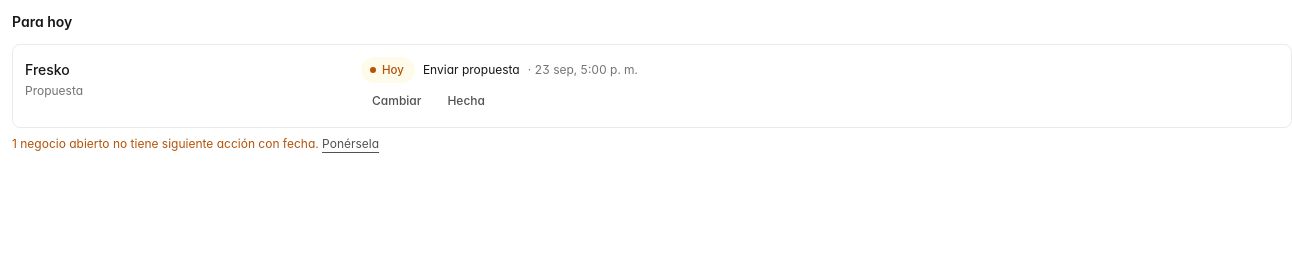
ParaHoyLista: no suelta la fila que se está tocando › «Cambiar» a un día que sigue siendo hoy: la fila se queda y el aviso es el de la línea
This screenshot has width=1292, height=278.
Click the button with aria-label "Cambiar la siguiente acción de «Fresko»".
click(397, 101)  # box [361,87,432,115]
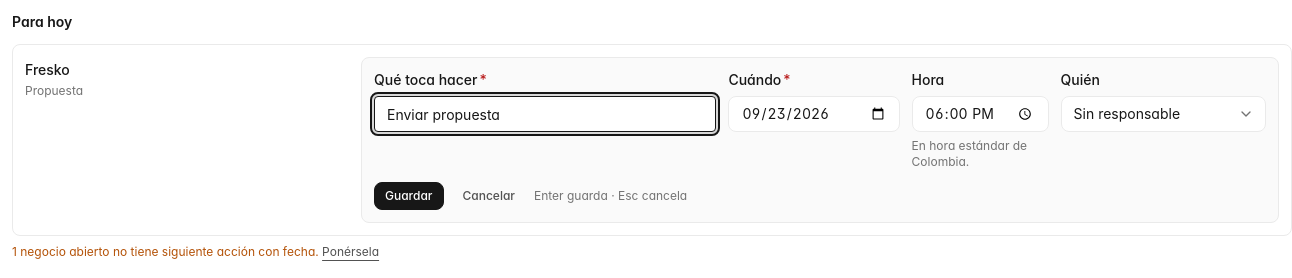
Click the button "Guardar".
click(409, 196)  # box [374,182,444,210]
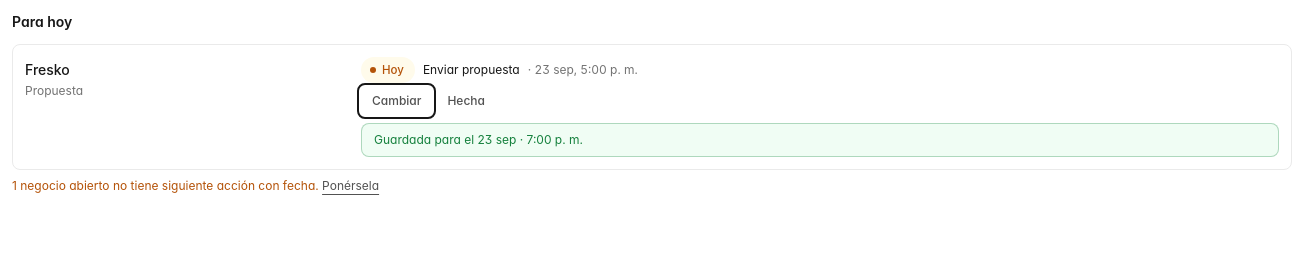
Expected: the number of list items is 1, [13,45,1291,169]
Expected: the message reads "Guardada para el 23 sep · 7:00 p. m.", [374,132,583,147]
